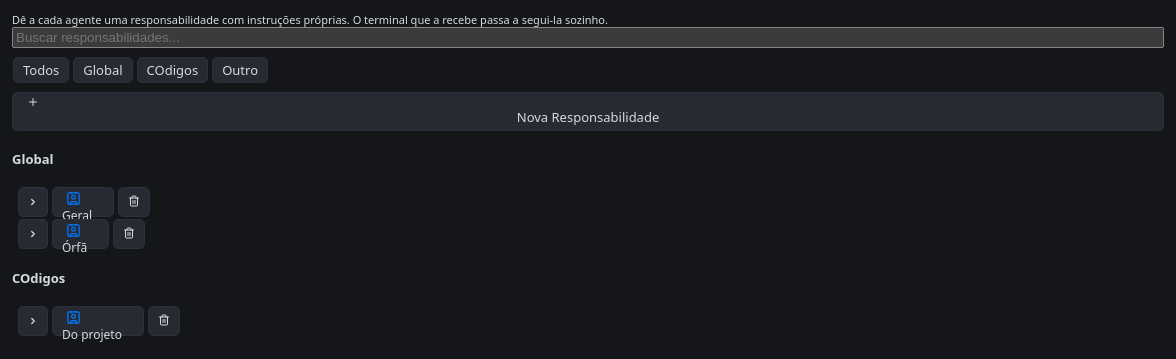
filtra por pílula (também pelas setas) e por busca; agrupa quando há mais de um grupo
This screenshot has width=1176, height=359.
Later steps or results of the test are not shown.
Click the radio button labelled "COdigos" at (172, 70), box [137, 57, 208, 83]
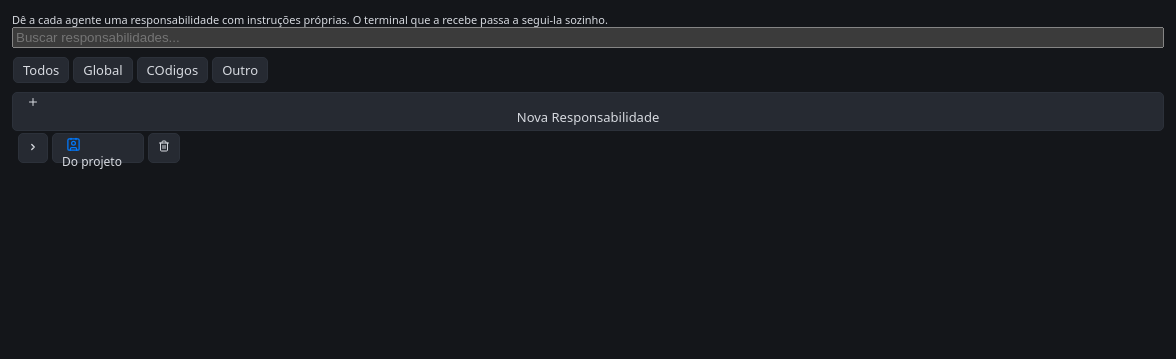
Expected: the heading with class "library-group-title" is gone
